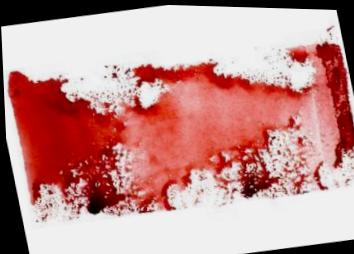Fire: (6, 39, 354, 221)
